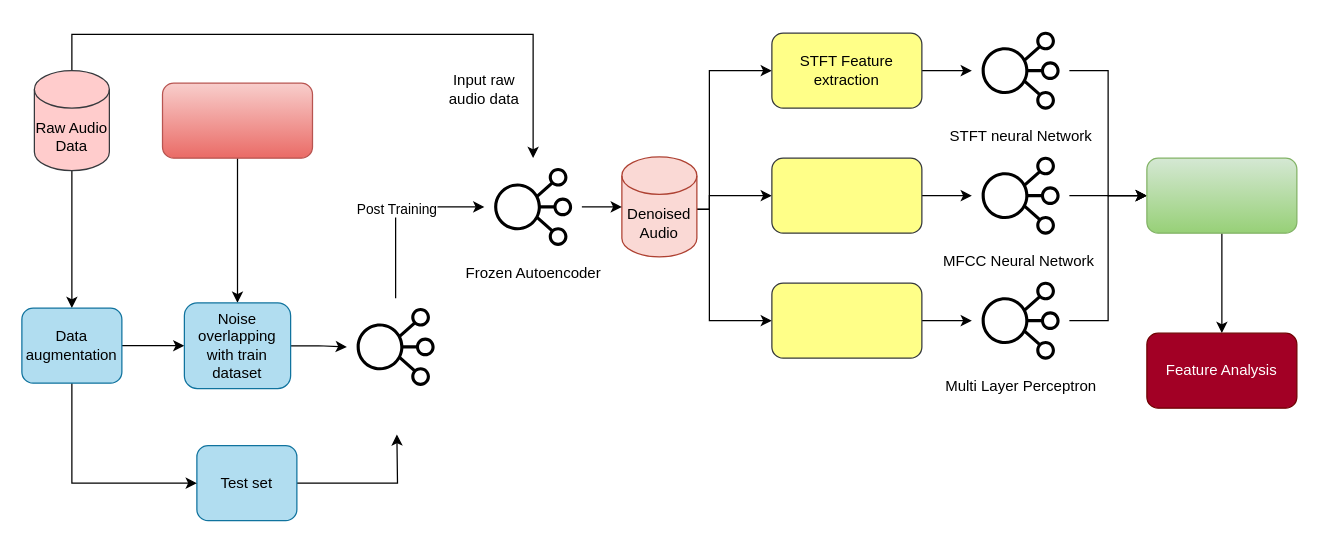
The diagram is 1319 pixels wide and 543 high, and some of its shapes have lost their labels. Each missing label, with the box of its shape:
Denoiser Autoencoder: (346, 297, 444, 396)
MFCC Feature extraction: (771, 157, 922, 233)
Noise: (161, 82, 312, 158)
OpenSmile Feature extraction: (771, 282, 922, 358)
Saliency Analysis: (1146, 157, 1297, 233)
